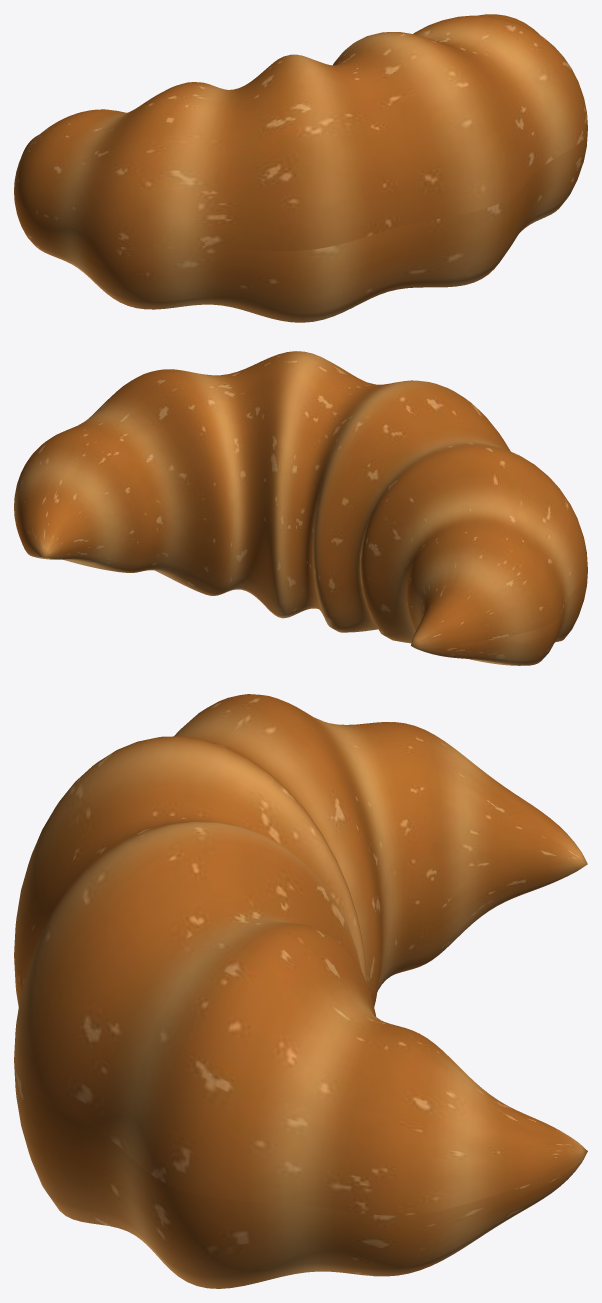
The model's file is croissant.glb.
3 renders of one model, top to bottom at view 1: azimuth 30°, elevation 25°; view 2: azimuth 150°, elevation 25°; view 3: azimuth 270°, elevation 25°, orthographic. The views are drawn at different scales.
Parts seen in each view (by area): view 1: croissant; view 2: croissant; view 3: croissant.
Boxes of the visible parts, x1=… form: croissant: x1=14, y1=14, x2=587, y2=322; croissant: x1=14, y1=351, x2=587, y2=665; croissant: x1=14, y1=694, x2=587, y2=1288.
Size of the model in its own units: 0.12 by 0.05 by 0.07.
1 material, 1 textured.
